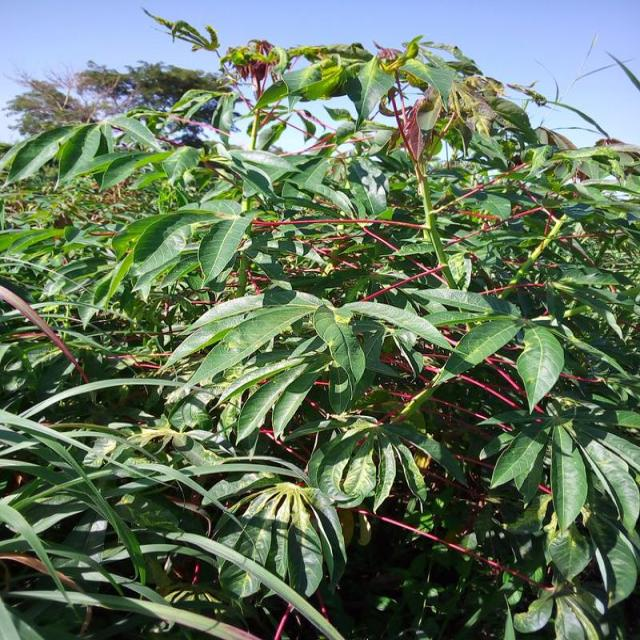cassava leaf: (0, 21, 638, 637), (212, 480, 346, 601)
